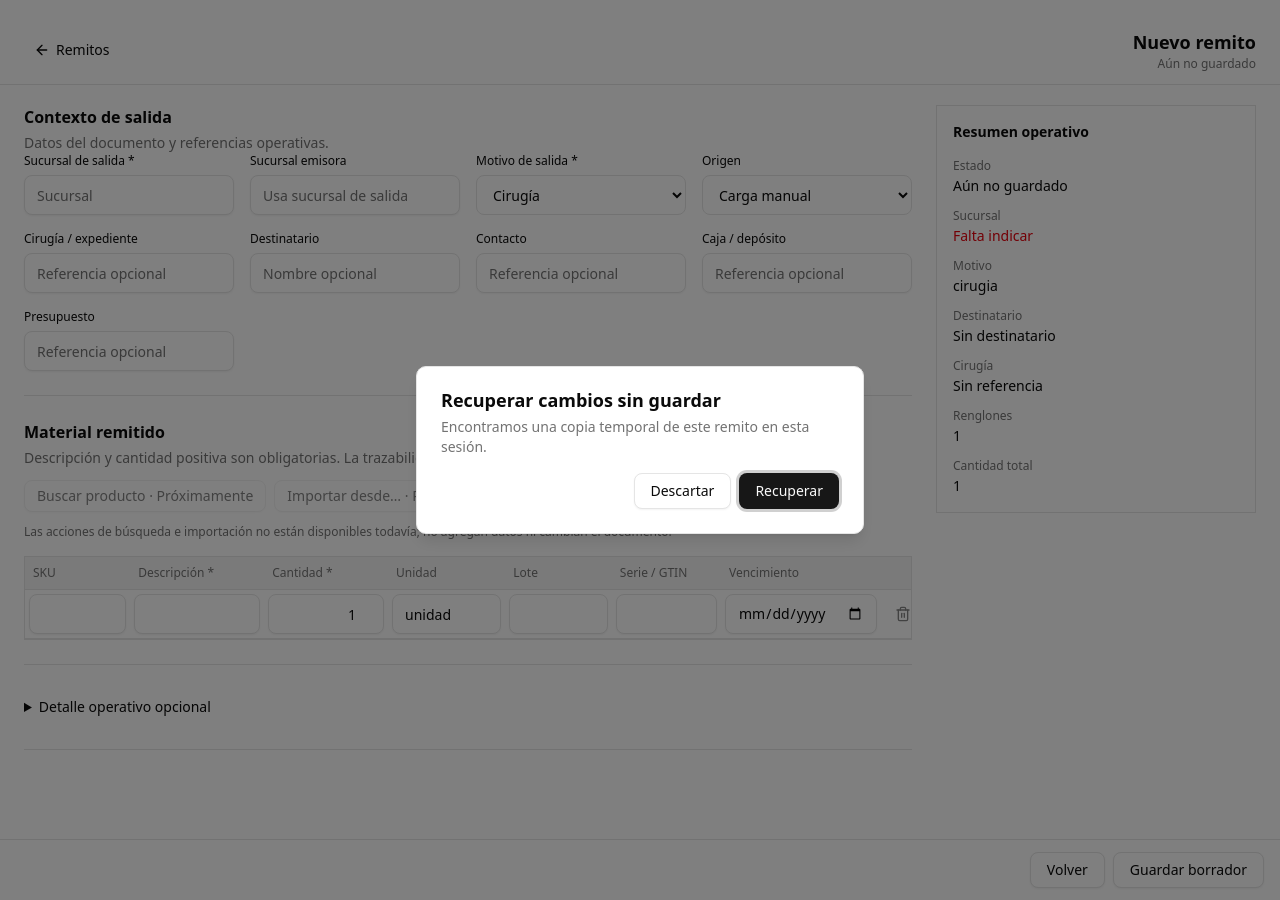
Test: OperationalRemitoWorkspace › offers a matching temporary draft without auto-applying it, and recovers only on confirmation
expect the field labelled "Sucursal de salida *" does not hold "recovered-branch": met, box top-left (24, 175), bottom-right (234, 215)
Click the button "Recuperar": (789, 491) top-left (739, 473), bottom-right (839, 509)
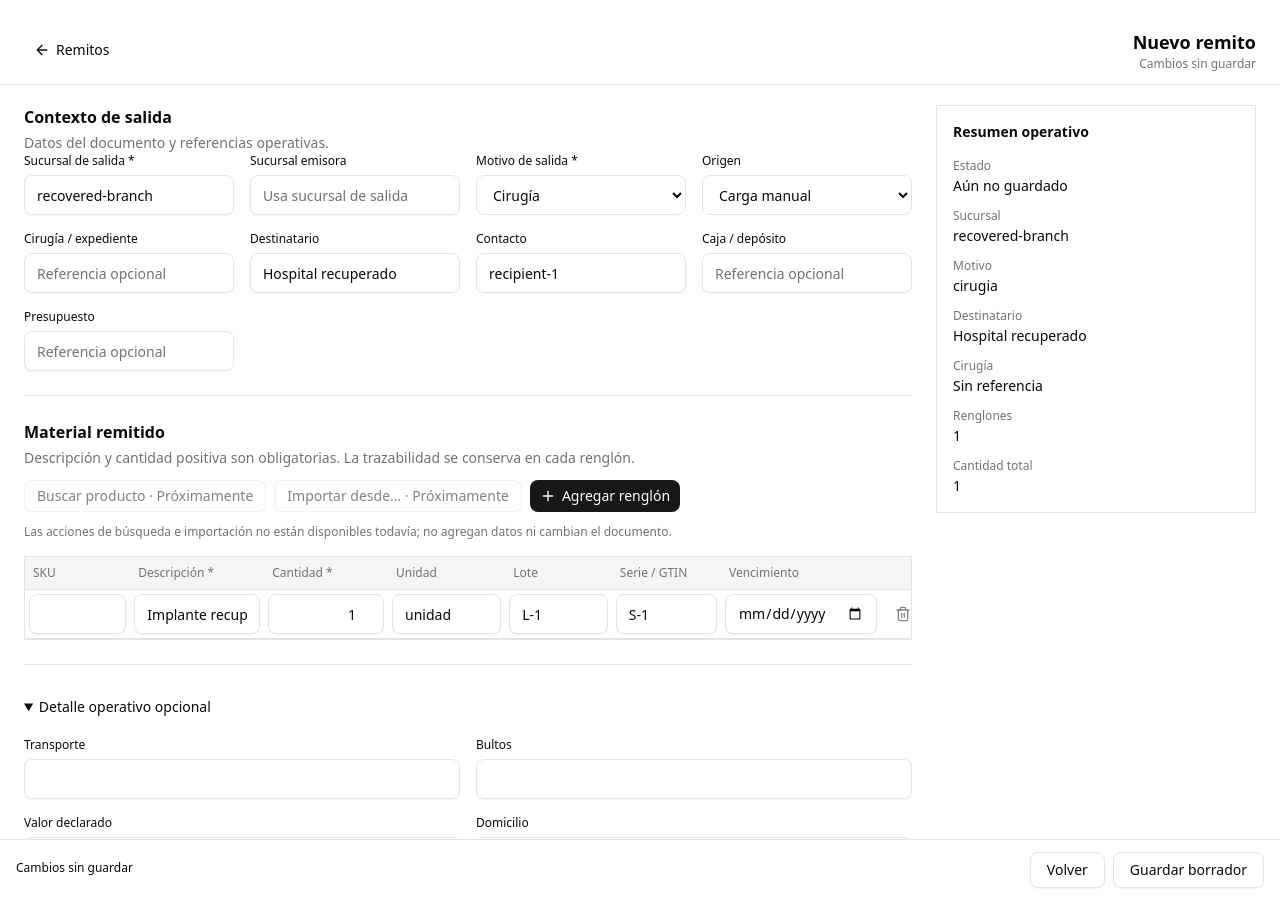
expect the field labelled "Sucursal de salida *" holds "recovered-branch": met, box top-left (24, 175), bottom-right (234, 215)
